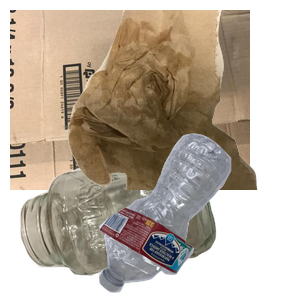cardboard: (10, 10, 250, 190)
glass: (18, 143, 227, 300)
plastic: (96, 131, 300, 300)
trash: (65, 10, 300, 190)
